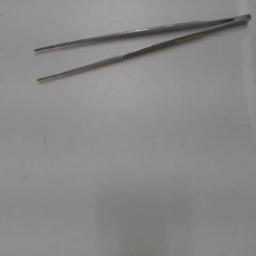DeBakey Dissector: (28, 8, 254, 94)
